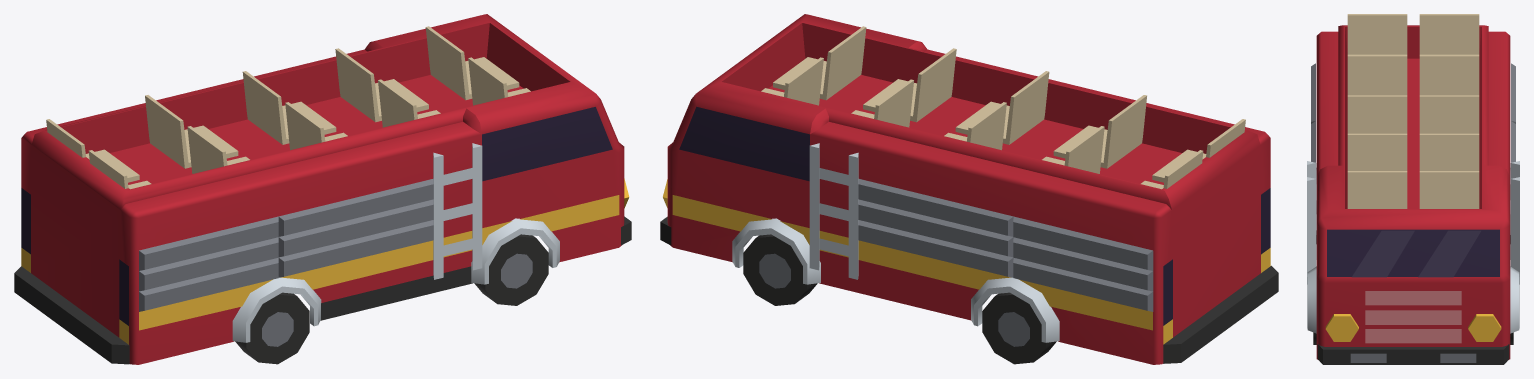
File: FireCar_open.fbx
3 views of the same model, side by side, from view 1: azimuth 30°, elevation 25°; view 2: azimuth 150°, elevation 25°; view 3: azimuth 270°, elevation 25° (orthographic). The views are drawn at different scales.
Parts seen in each view (by area): view 1: FireCar_open; view 2: FireCar_open; view 3: FireCar_open.
Boxes of the visible parts, x1,y1,x2,y2 form: FireCar_open: (14, 14, 631, 364); FireCar_open: (660, 14, 1278, 364); FireCar_open: (1307, 14, 1519, 364).
Size of the model in its own units: 25.27 by 9.61 by 10.63.
